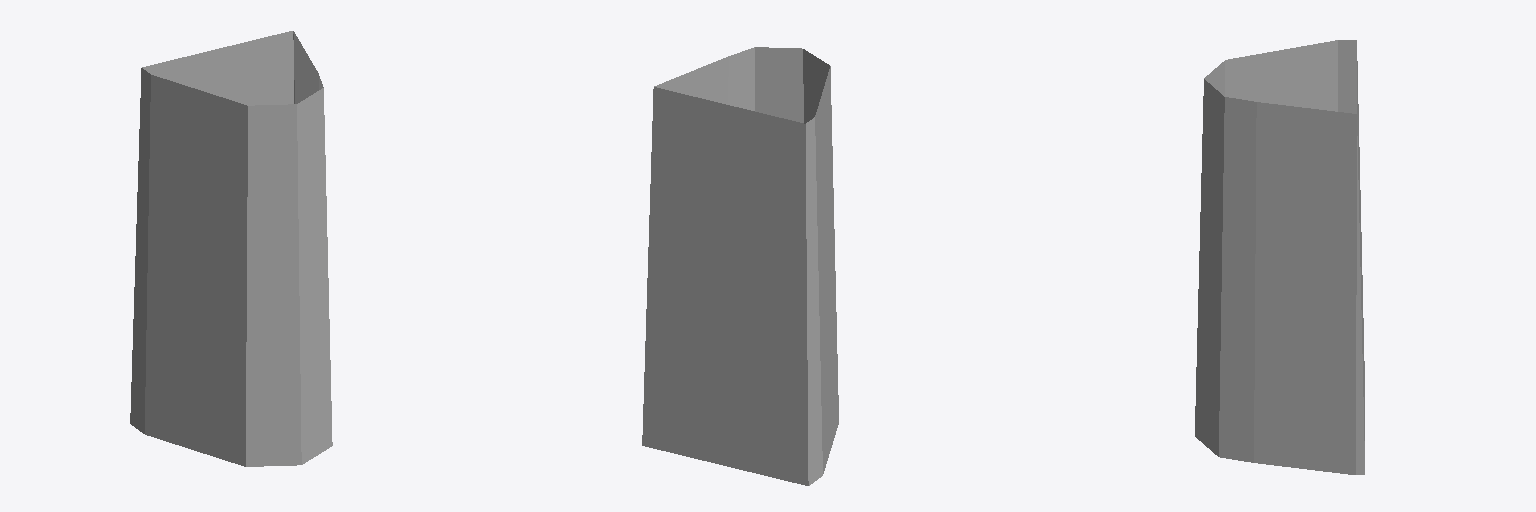
The model's file is legUpperLeft.obj.
3 renders of one model, left to right at view 1: azimuth 30°, elevation 25°; view 2: azimuth 150°, elevation 25°; view 3: azimuth 270°, elevation 25°, orthographic.
Bounding box in the file's own units: 5.56 × 11.42 × 4.93.